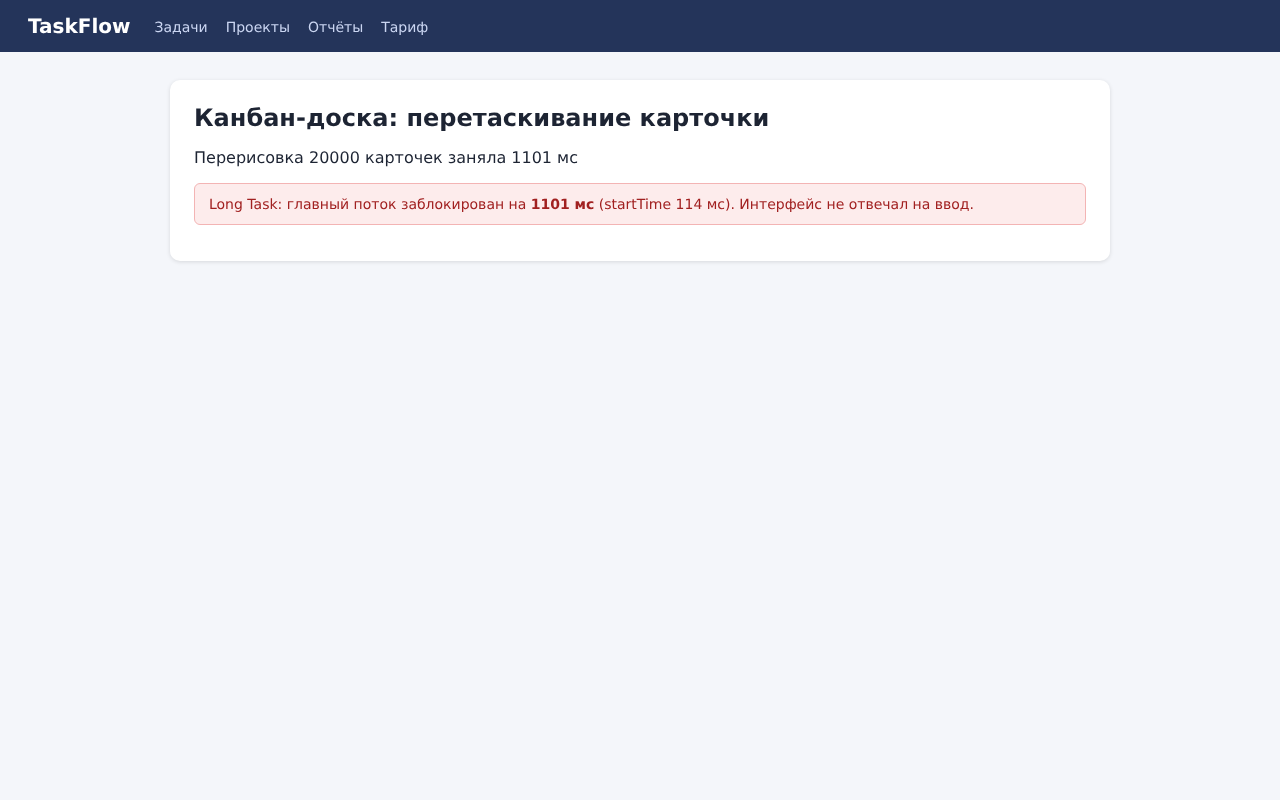ERROR_TEXT: (194, 183, 1086, 225)
STATUS_INDICATOR: (195, 151, 577, 167)
